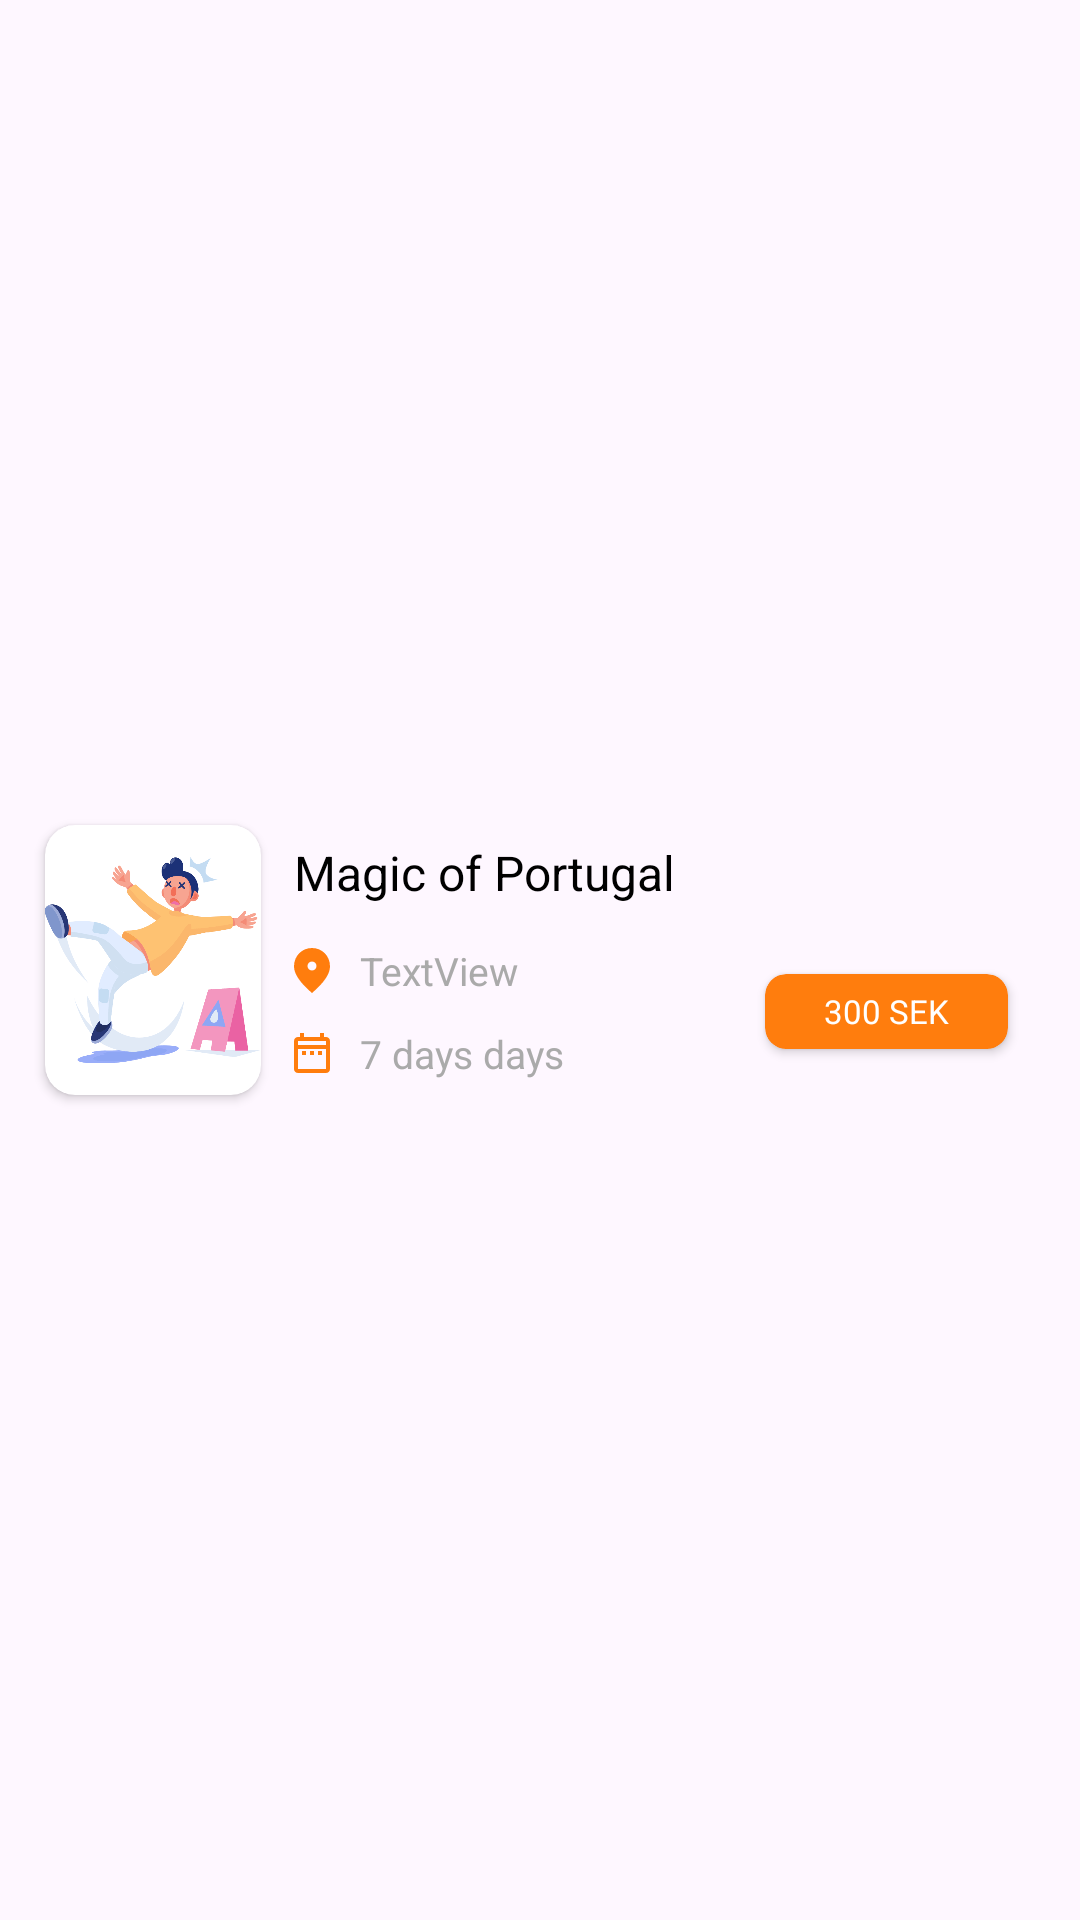

Screen size 1080 x 1920. Icon name, then its center in pixels as (x=x, y=y):
calendar: (x=312, y=1053)
location: (x=312, y=970)
tour error: (x=153, y=960)
